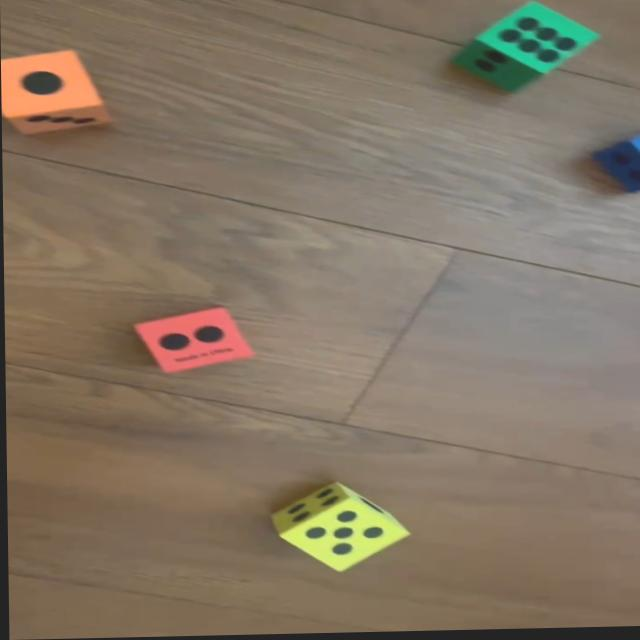blue_block: (594, 136, 640, 196)
red_block: (136, 308, 253, 374)
